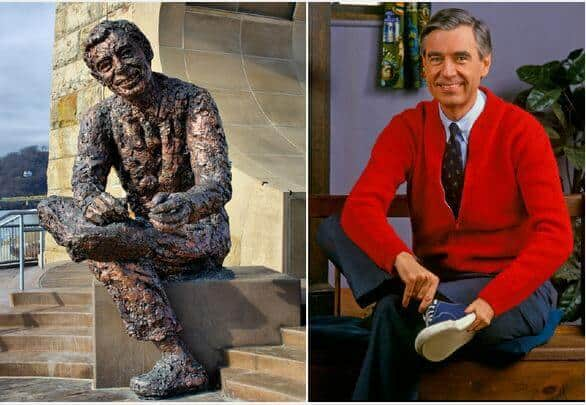person: (318, 6, 577, 397)
person-like: (32, 14, 237, 403)
